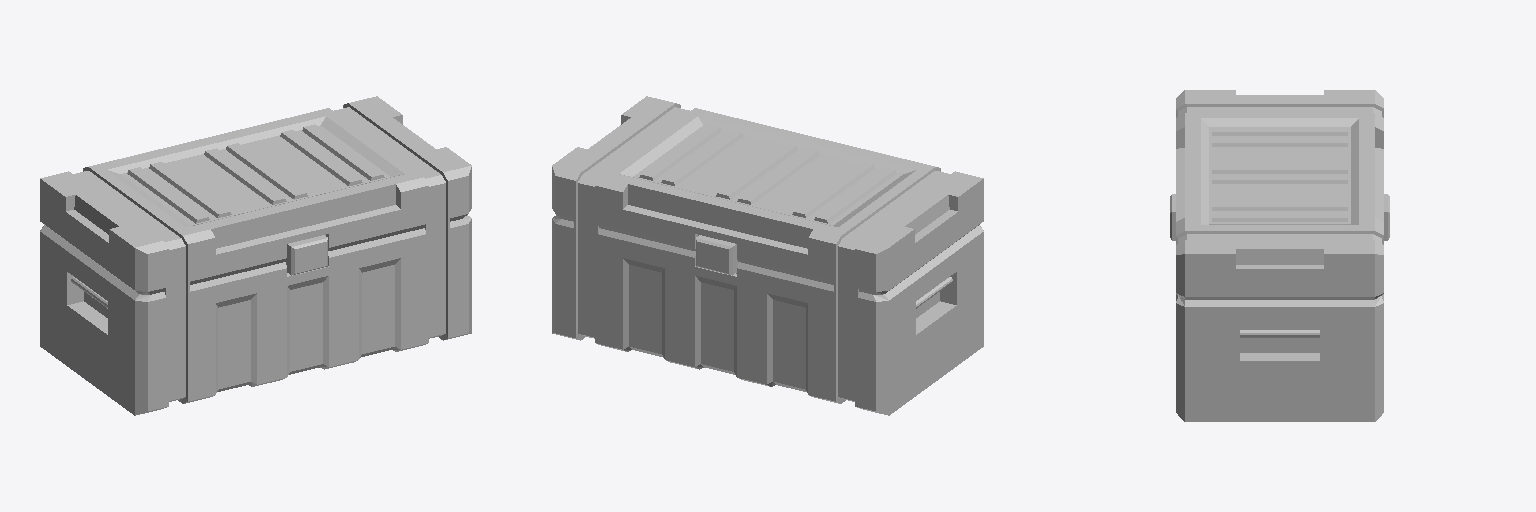
The model's file is Chest_Special.obj.
3 views of the same model, side by side, from view 1: azimuth 30°, elevation 25°; view 2: azimuth 150°, elevation 25°; view 3: azimuth 270°, elevation 25° (orthographic).
Parts seen in each view (by area): view 1: Chest_Special_Cube.065; view 2: Chest_Special_Cube.065; view 3: Chest_Special_Cube.065.
Boxes of the visible parts, box(x1,y1,x2,y2) form: Chest_Special_Cube.065: box(40, 96, 471, 415); Chest_Special_Cube.065: box(552, 96, 983, 415); Chest_Special_Cube.065: box(1170, 90, 1389, 421).
Bounding box in the file's own units: 0.8524 × 0.4062 × 0.483.